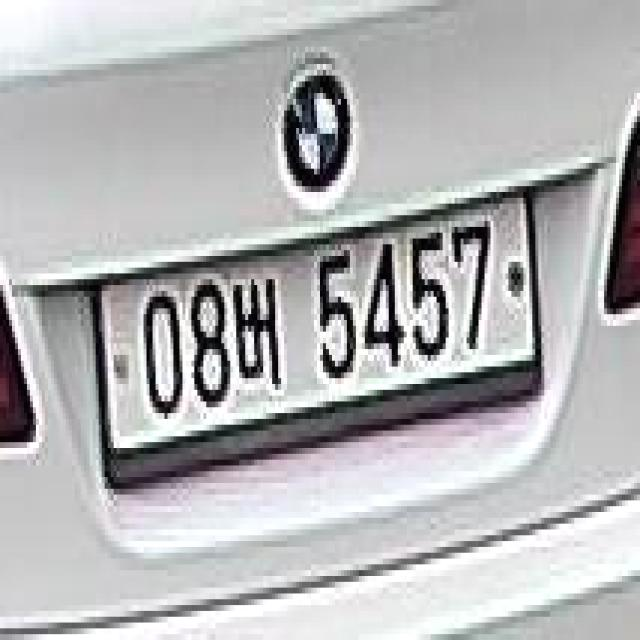illegal_plate: (91, 178, 542, 489)
